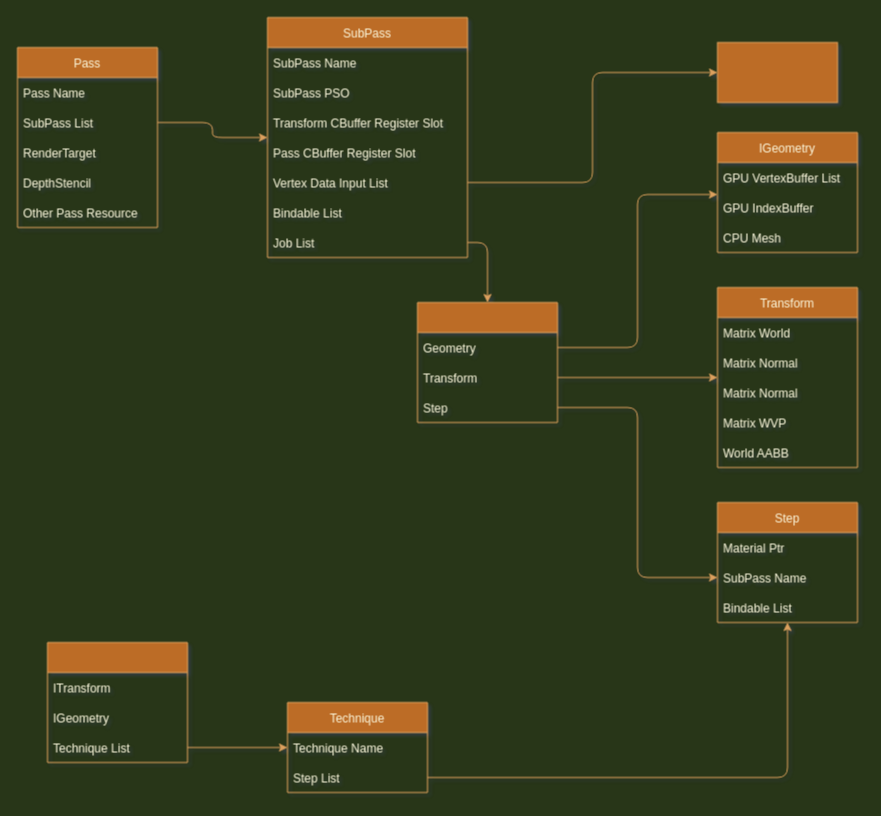
Some shapes in this 881 by 816 pixel diagram are drawn without their labels. The box of each missing label's shape, as (x1, y1, x2, y2) in pixels:
Drawable: (46, 642, 188, 762)
Job: (416, 302, 558, 422)
POSITION NORMAL TECOORD TANGENT: (716, 42, 838, 102)
